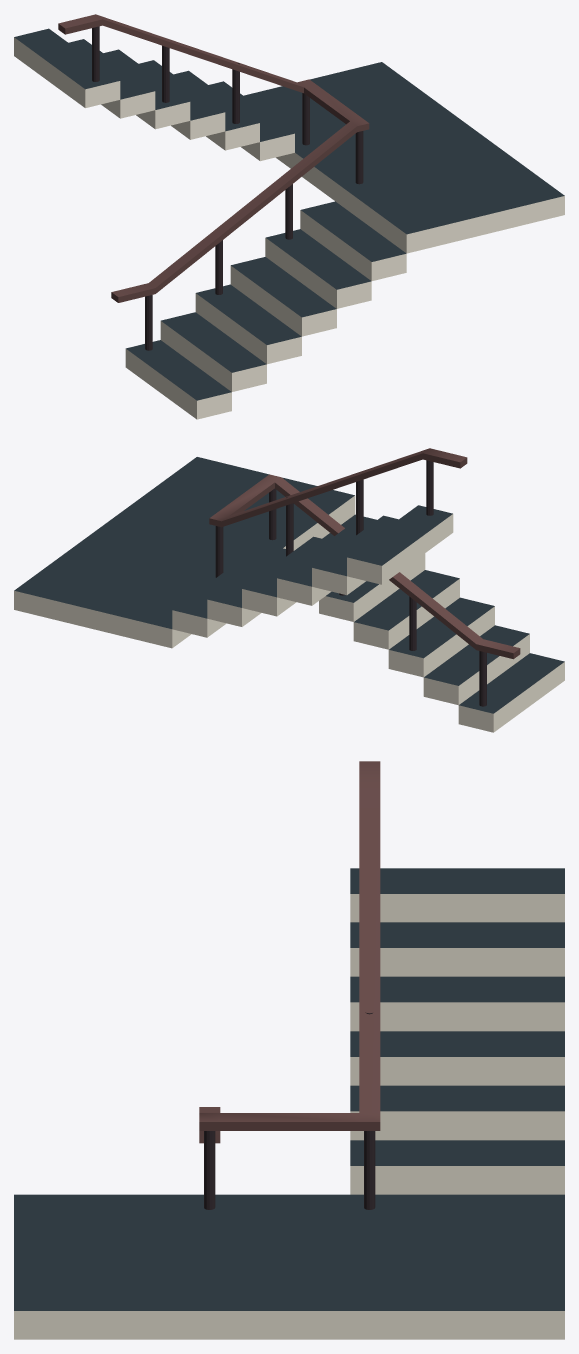
Rendered from mod_stair.fbx.
3 renders of one model, top to bottom at view 1: azimuth 30°, elevation 25°; view 2: azimuth 150°, elevation 25°; view 3: azimuth 270°, elevation 25°, orthographic. The views are drawn at different scales.
Parts seen in each view (by area): view 1: mod_stair; view 2: mod_stair; view 3: mod_stair.
Boxes of the visible parts, box(x1,y1,x2,y2) form: mod_stair: box(14, 14, 564, 419); mod_stair: box(14, 448, 564, 732); mod_stair: box(14, 761, 564, 1339).
Bounding box in the file's own units: 4.08 × 3.15 × 3.35.
Materials: 1 (1 with a texture image).
